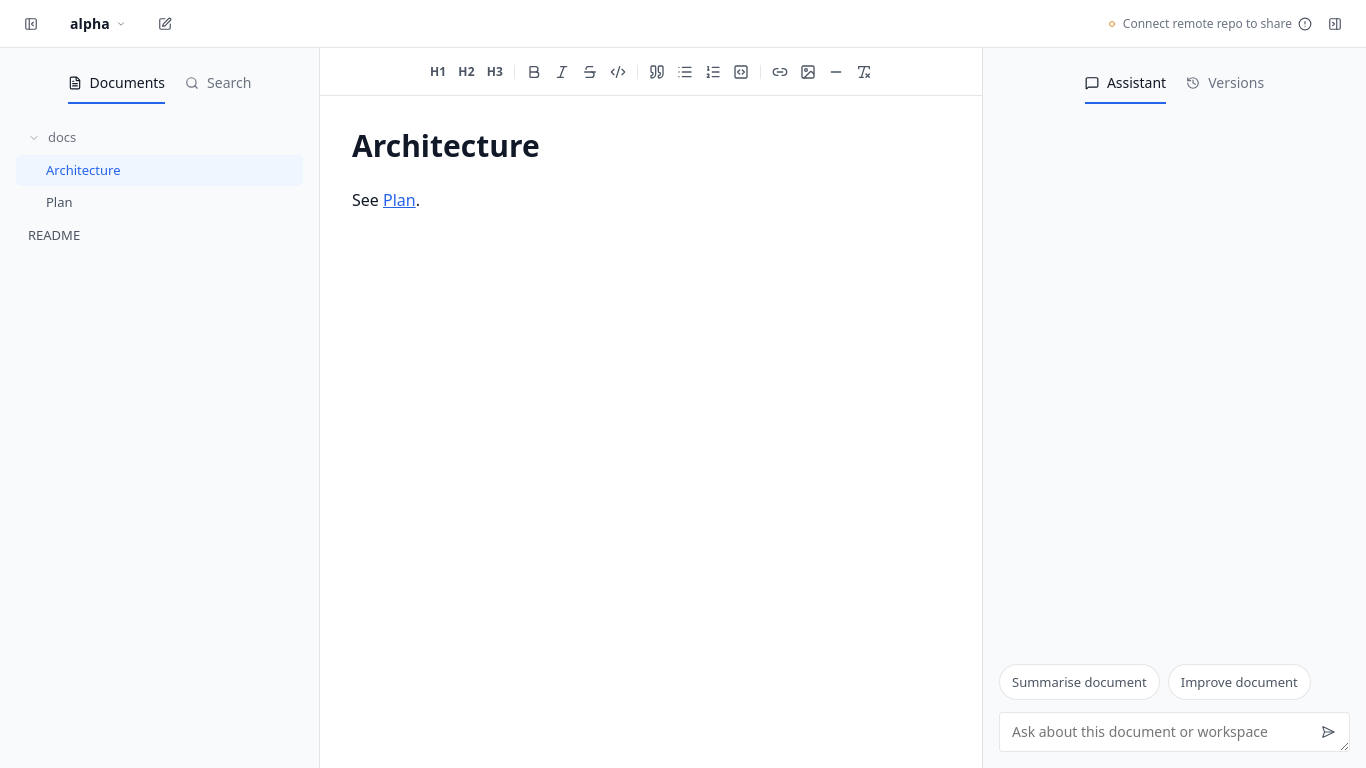
Test: App › shows delete-only actions in the document context menu
This screenshot has width=1366, height=768.
Right-click the button "Architecture" at coordinates (83, 170), box [16,154,303,186]
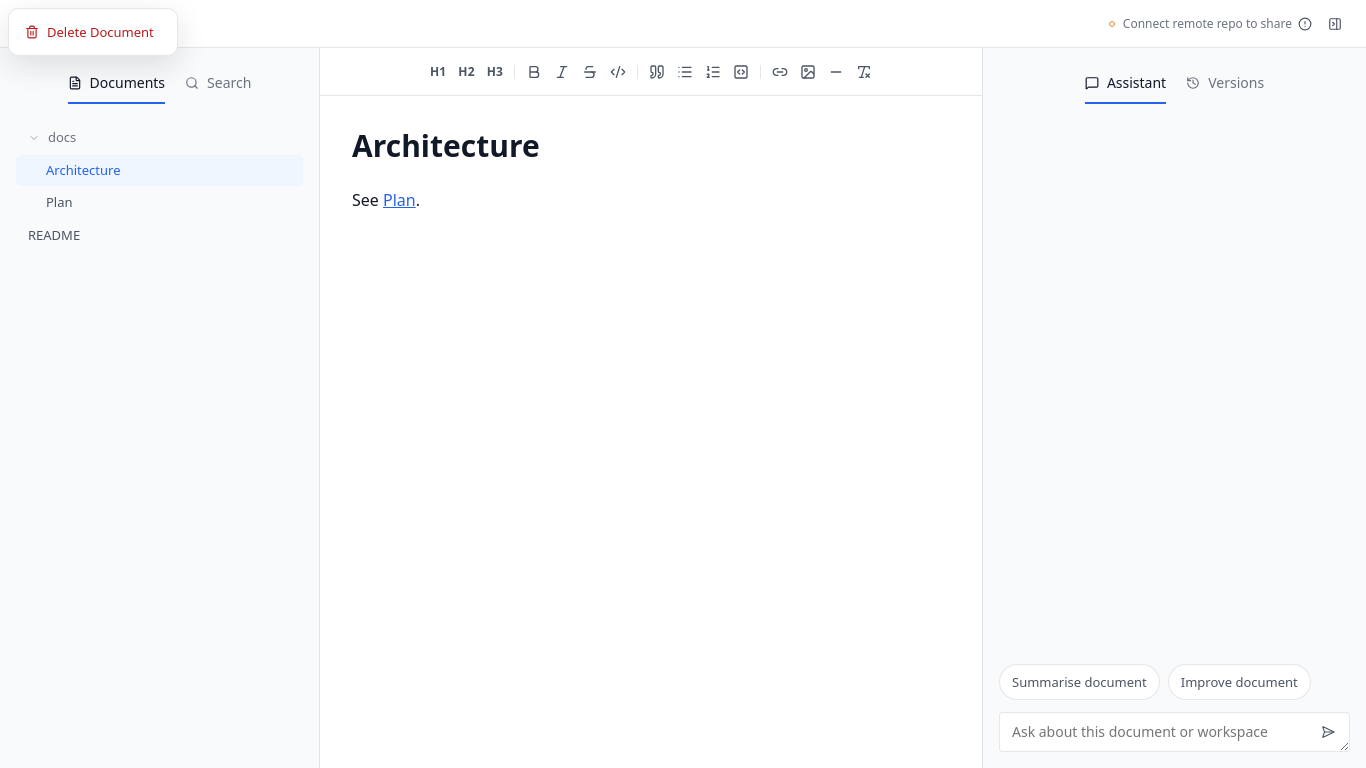
Expected: the menu item "Delete Document" is shown, [15,15,171,49]
